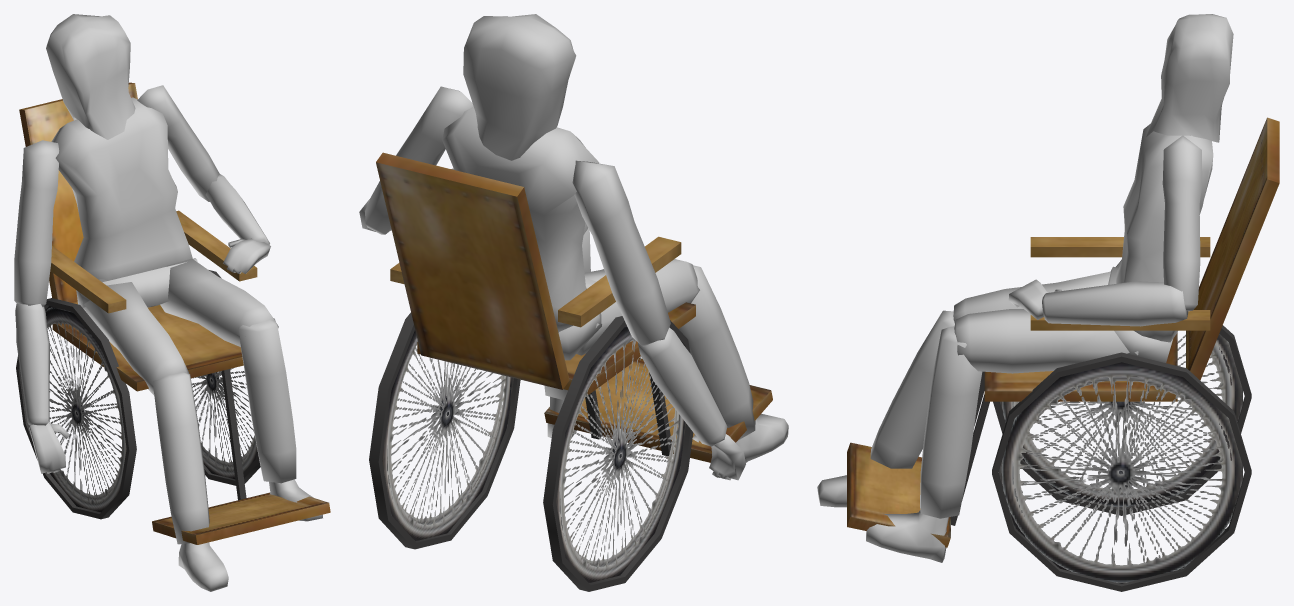
The model's file is wheelchair_victim.FBX.
3 views of the same model, side by side, from view 1: azimuth 30°, elevation 25°; view 2: azimuth 150°, elevation 25°; view 3: azimuth 270°, elevation 25° (orthographic). The views are drawn at different scales.
Visible parts, largest first — view 1: wheelchair_victim, wheelchair; view 2: wheelchair, wheelchair_victim; view 3: wheelchair, wheelchair_victim.
Part boxes in pixels (x1,y1,x2,y2): wheelchair_victim: (14,14,322,591); wheelchair: (16,82,330,544); wheelchair: (369,152,772,591); wheelchair_victim: (359,14,788,480); wheelchair: (847,117,1279,591); wheelchair_victim: (817,14,1233,562).
Size of the model in its own units: 49.7 by 88.04 by 70.81.
